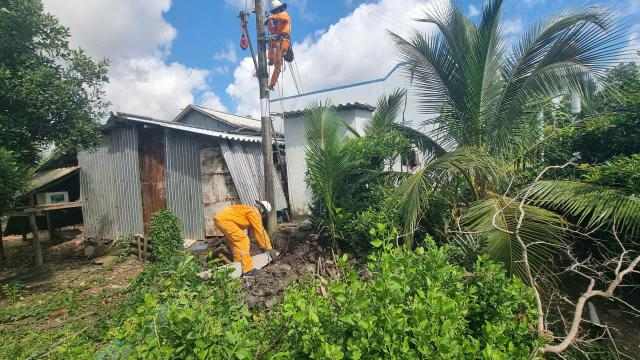gloves: (265, 246, 280, 262), (263, 14, 272, 26)
harness: (264, 31, 295, 40)
helmet: (254, 197, 277, 215), (264, 0, 290, 14)
shoes: (241, 268, 265, 281), (264, 85, 276, 92), (268, 59, 275, 66)
